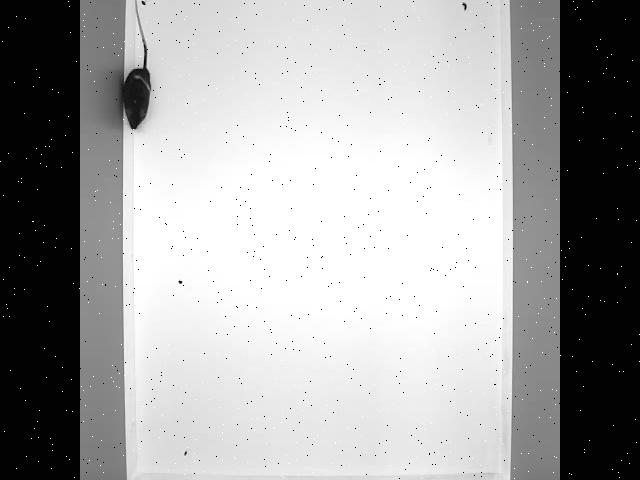Tikus: (120, 0, 154, 132)
